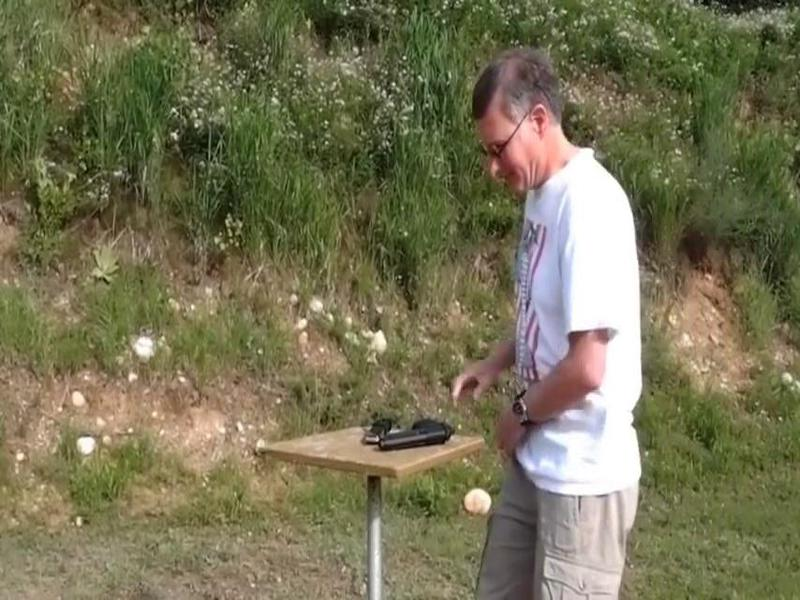Pistola: (379, 412, 473, 474)
